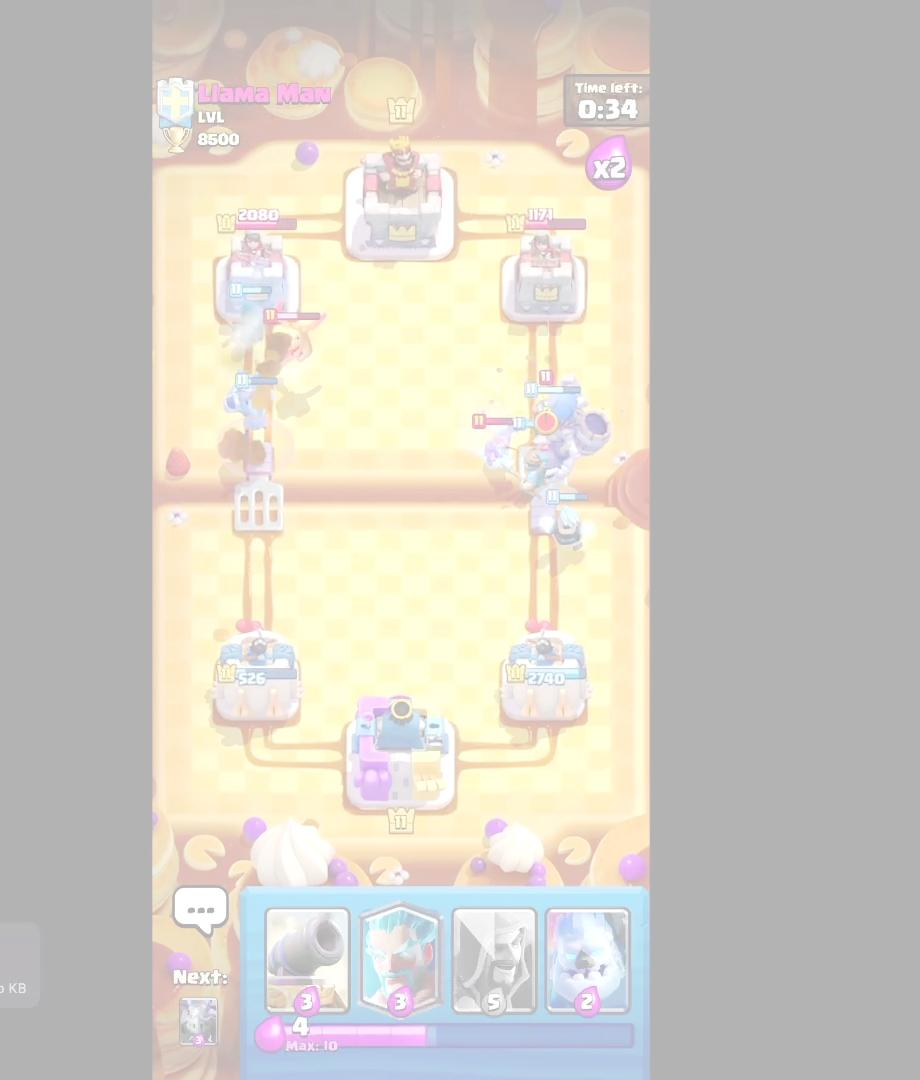Baby Dragon: (260, 303, 326, 369)
Mini Pekka: (528, 367, 568, 436)
Valkyrie: (464, 412, 522, 472)
